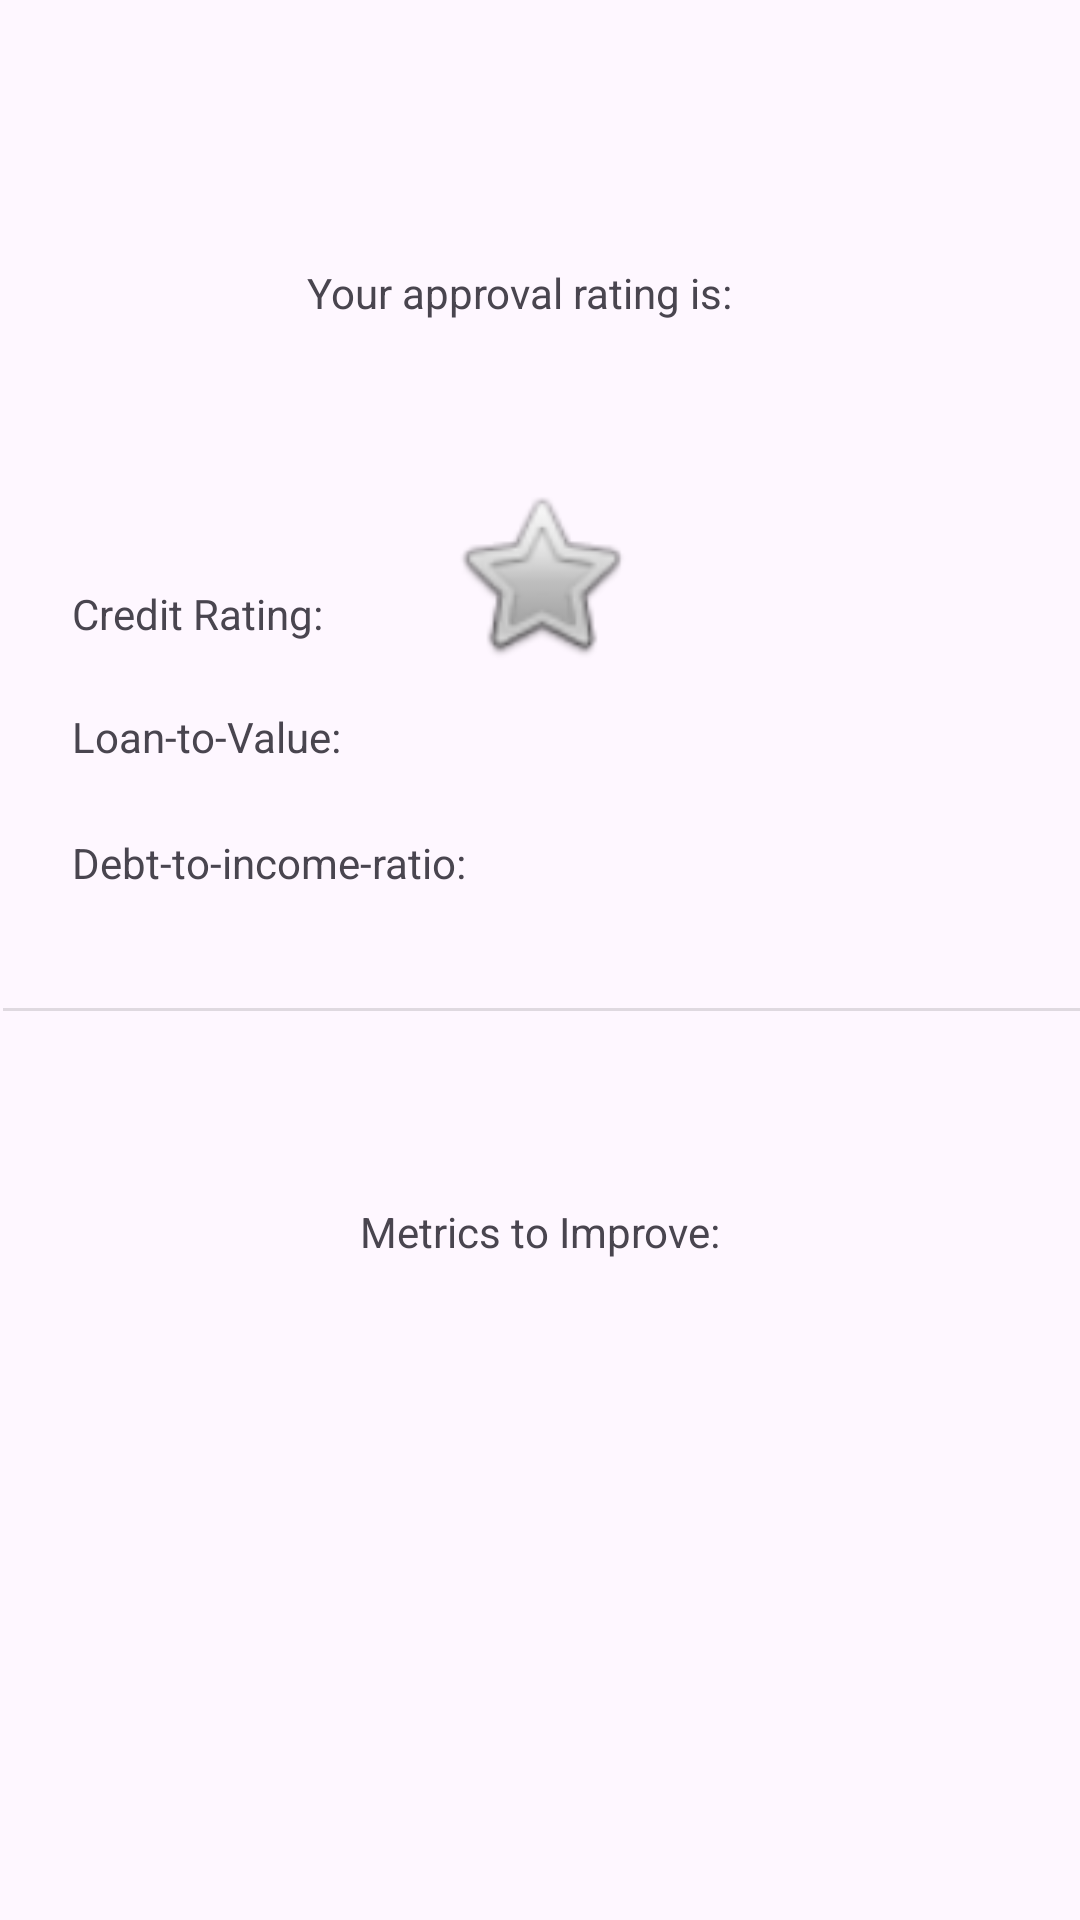

Point at icon controls on the screen. Image size 1080x1920, points as (x,y).
star: (542,576)
